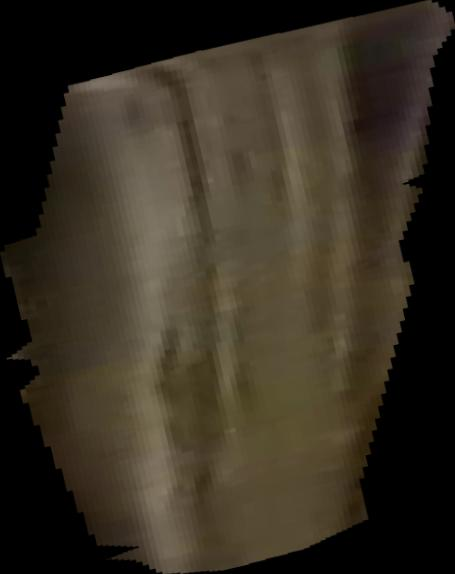backward: (1, 1, 455, 574)
